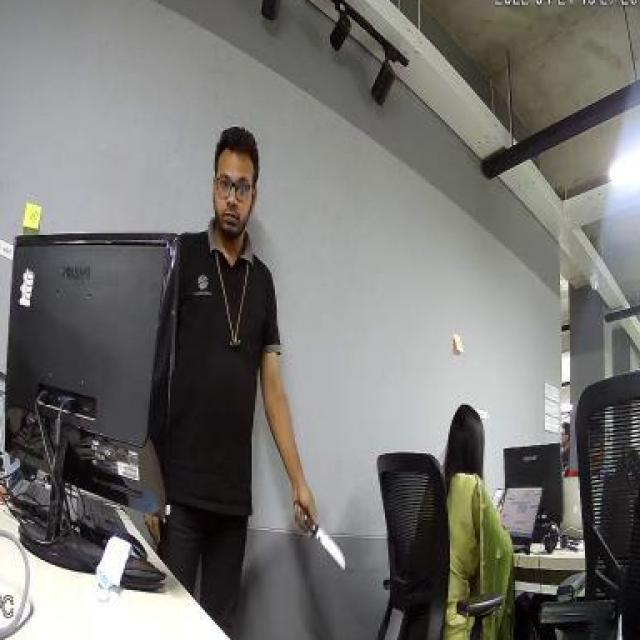Knife: (284, 497, 354, 579)
